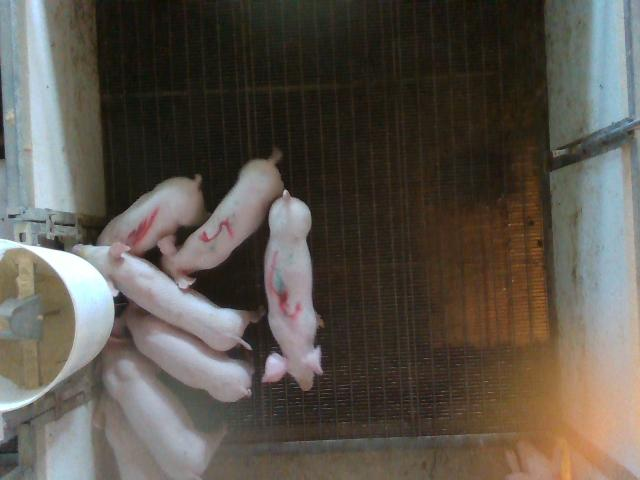pig-1: (98, 175, 205, 256)
pig-3: (262, 190, 322, 391)
pig-5: (159, 149, 284, 288)
